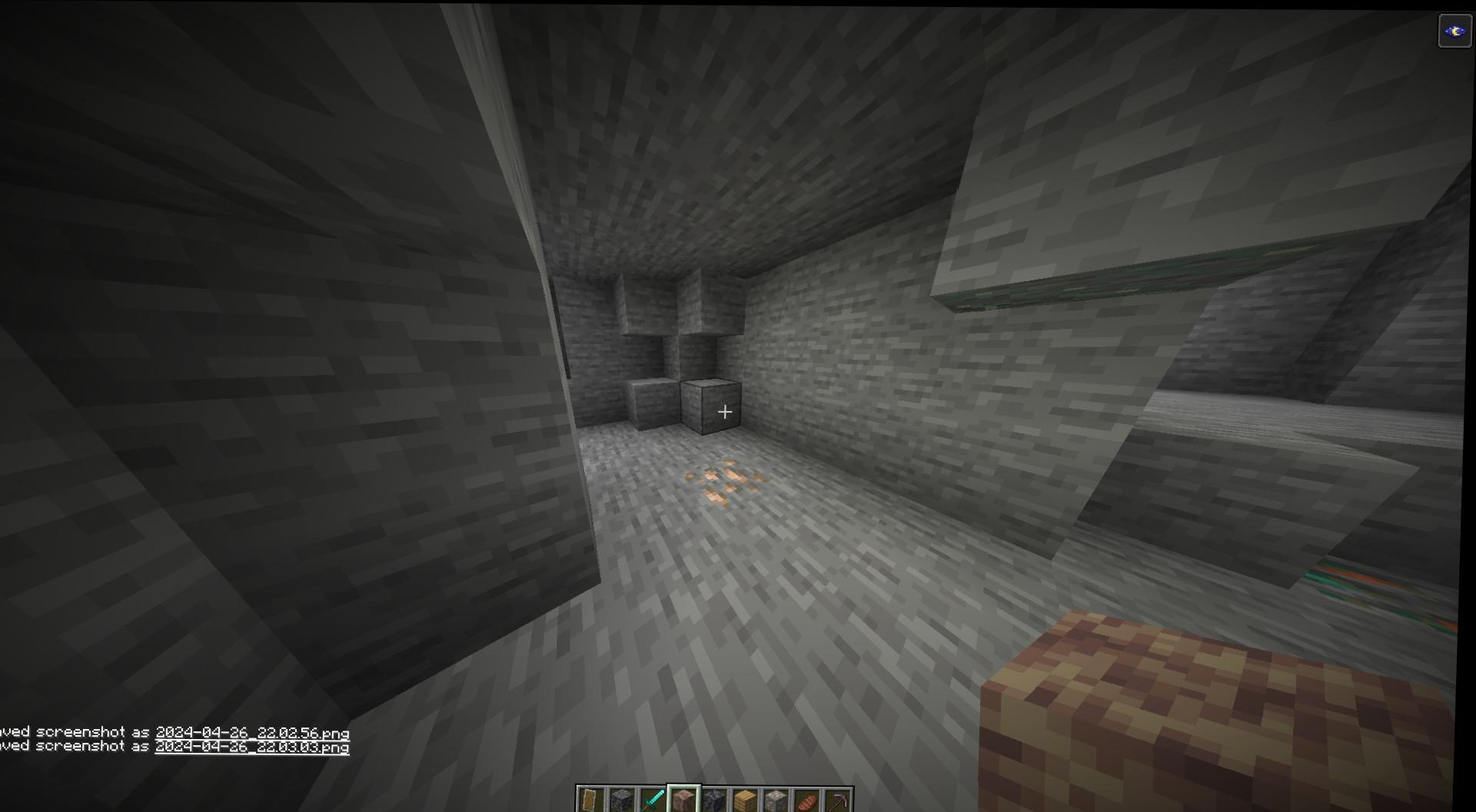iron ore: (691, 454, 767, 509)
